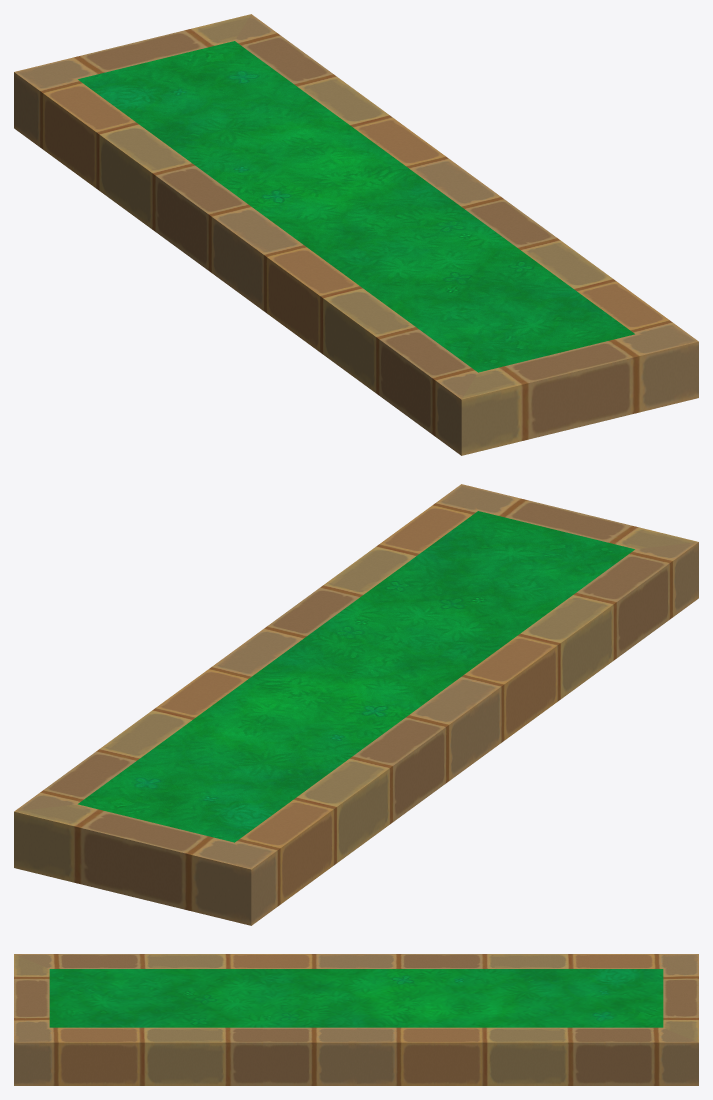
File: Plant01_d04.FBX
The picture shows the model from 3 angles, top to bottom: view 1: azimuth 30°, elevation 25°; view 2: azimuth 150°, elevation 25°; view 3: azimuth 270°, elevation 25°; orthographic projection. The views are drawn at different scales.
Parts seen in each view (by area): view 1: Plant01_d04; view 2: Plant01_d04; view 3: Plant01_d04.
Boxes of the visible parts, box(x1,y1,x2,y2) form: Plant01_d04: box(14, 14, 698, 455); Plant01_d04: box(14, 484, 698, 925); Plant01_d04: box(14, 954, 698, 1085).
Bounding box in the file's own units: 208 × 47.09 × 678.
Materials: 2 (2 with a texture image).
